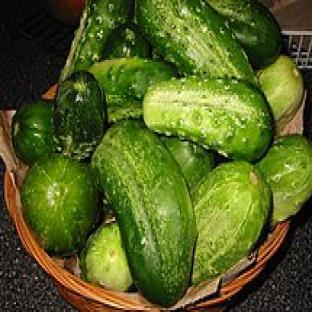Cucumber: (92, 121, 197, 306), (144, 78, 272, 160), (192, 161, 271, 284), (89, 57, 178, 122), (257, 134, 311, 224), (53, 70, 107, 160), (162, 136, 216, 195), (104, 22, 152, 60)
